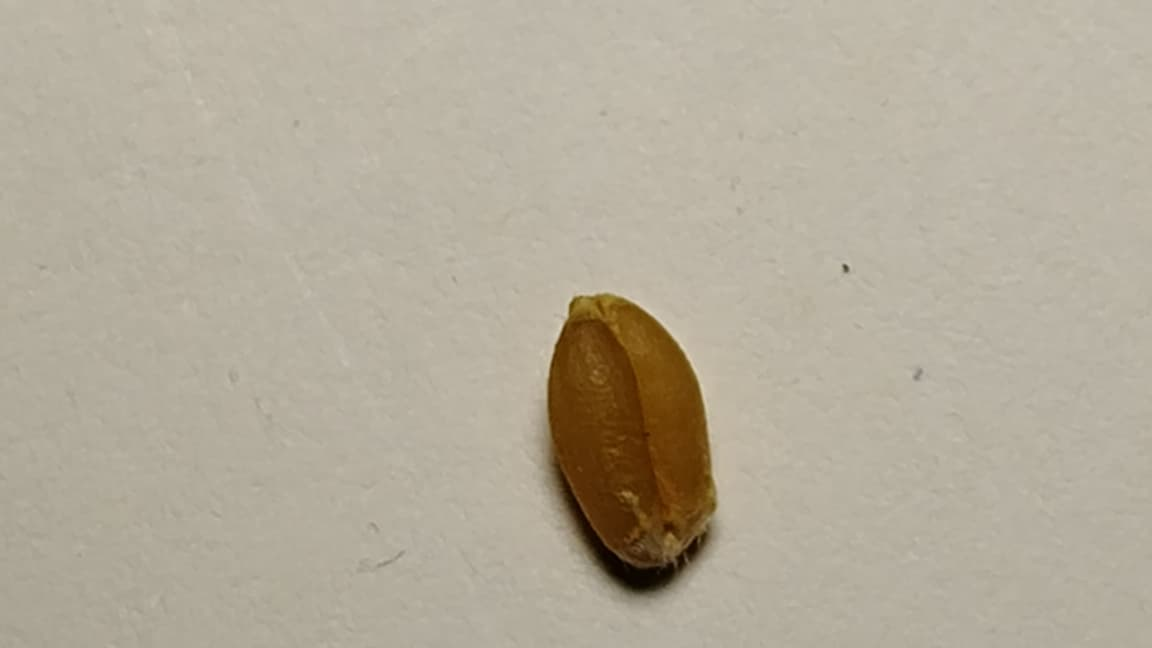healthy: (548, 294, 715, 568)
